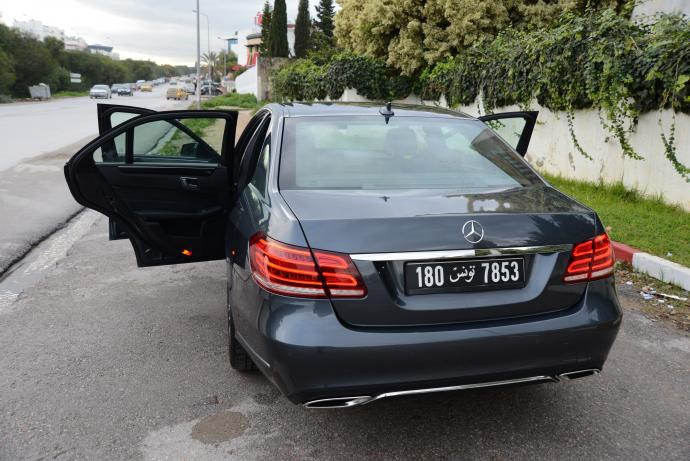LP: (401, 259, 529, 292)
